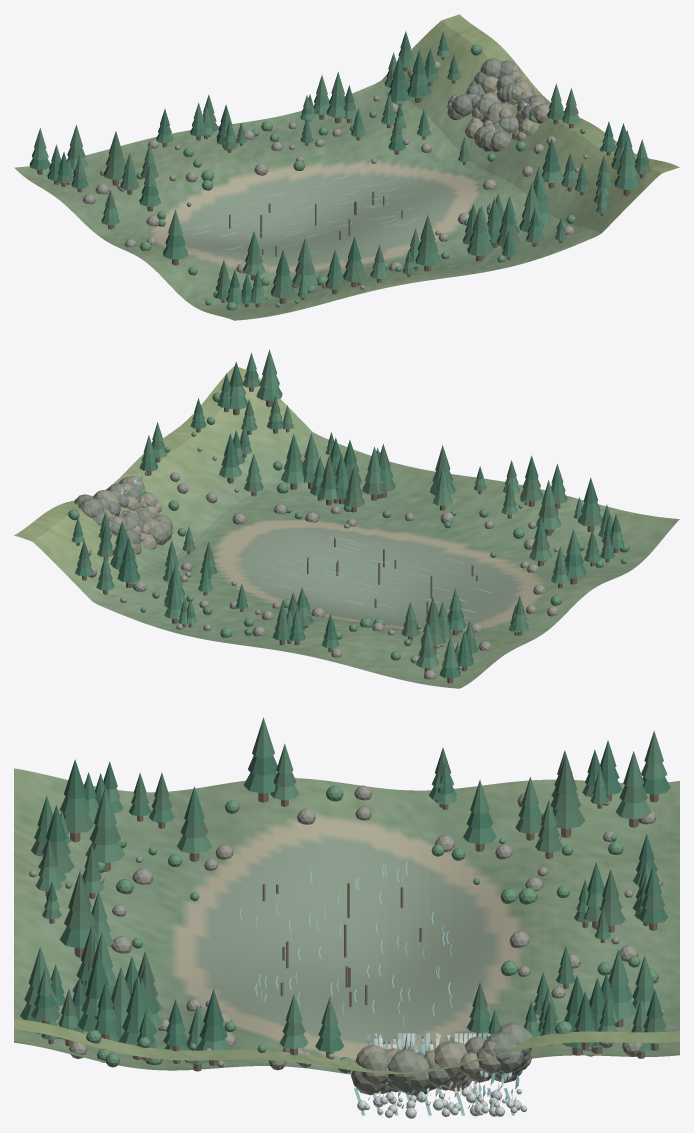
File: jiuzhaigou-miniature.glb
The picture shows the model from 3 angles, top to bottom: view 1: azimuth 30°, elevation 25°; view 2: azimuth 150°, elevation 25°; view 3: azimuth 270°, elevation 25°; orthographic projection. The views are drawn at different scales.
Parts seen in each view (by area): view 1: world; view 2: world; view 3: world.
Part boxes in pixels (left/top/right/bottom): world: left=14, top=14, right=679, bottom=320; world: left=14, top=349, right=679, bottom=688; world: left=14, top=717, right=679, bottom=1118.
Size of the model in its own units: 28 by 7.32 by 24.
